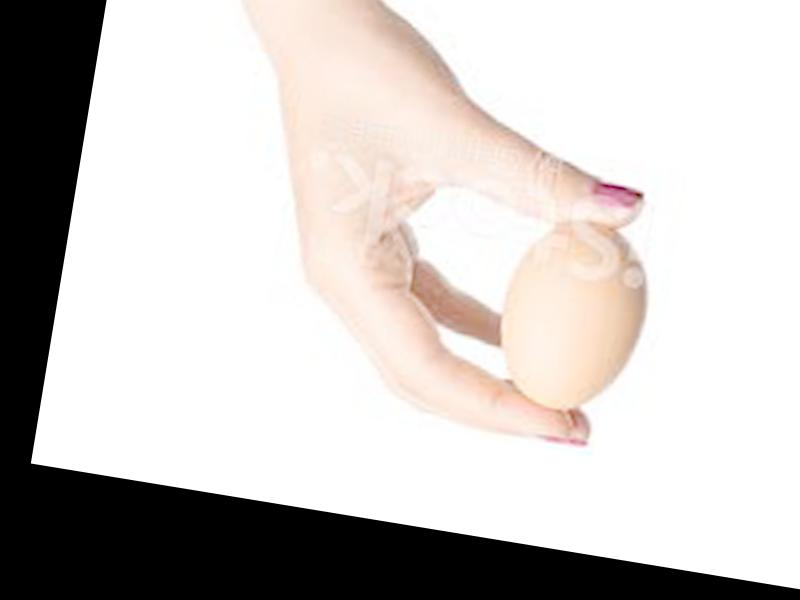Eggs: (491, 209, 653, 419)
